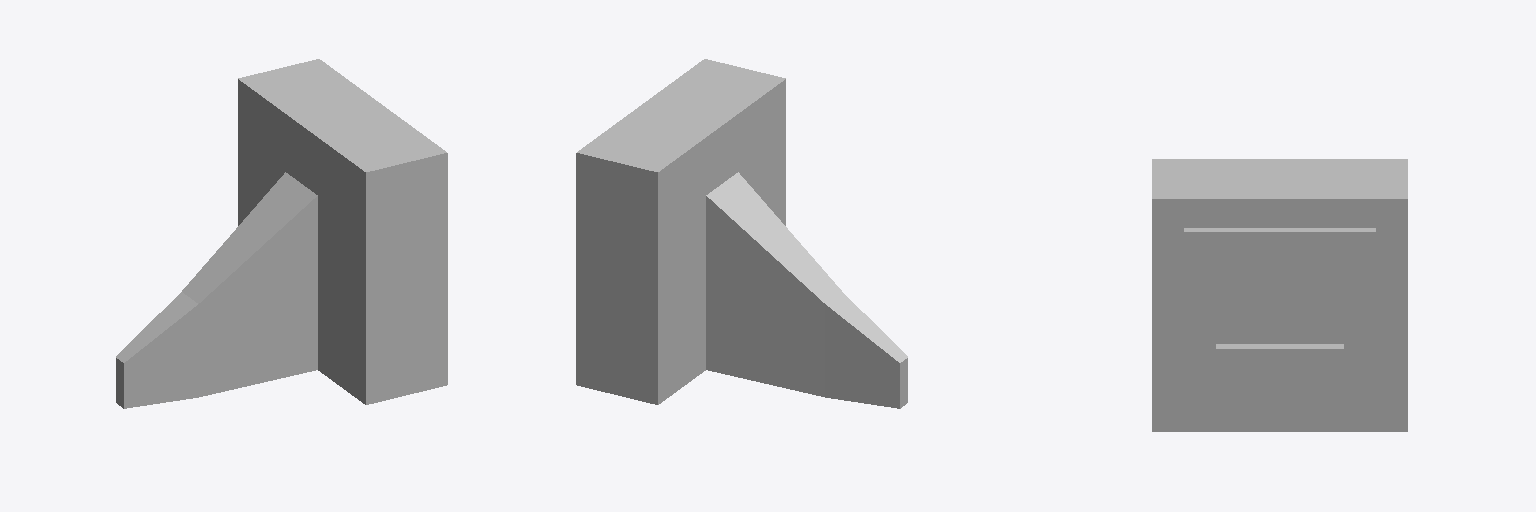
The model's file is target.obj.
The picture shows the model from 3 angles: view 1: azimuth 30°, elevation 25°; view 2: azimuth 150°, elevation 25°; view 3: azimuth 270°, elevation 25°; orthographic projection.
Visible parts, largest first — view 1: Cube; view 2: Cube; view 3: Cube.
Boxes of the visible parts, box(x1,y1,x2,y2) form: Cube: box(116, 59, 447, 408); Cube: box(576, 59, 907, 408); Cube: box(1152, 159, 1407, 431).
Size of the model in its own units: 2.45 by 2.05 by 2.